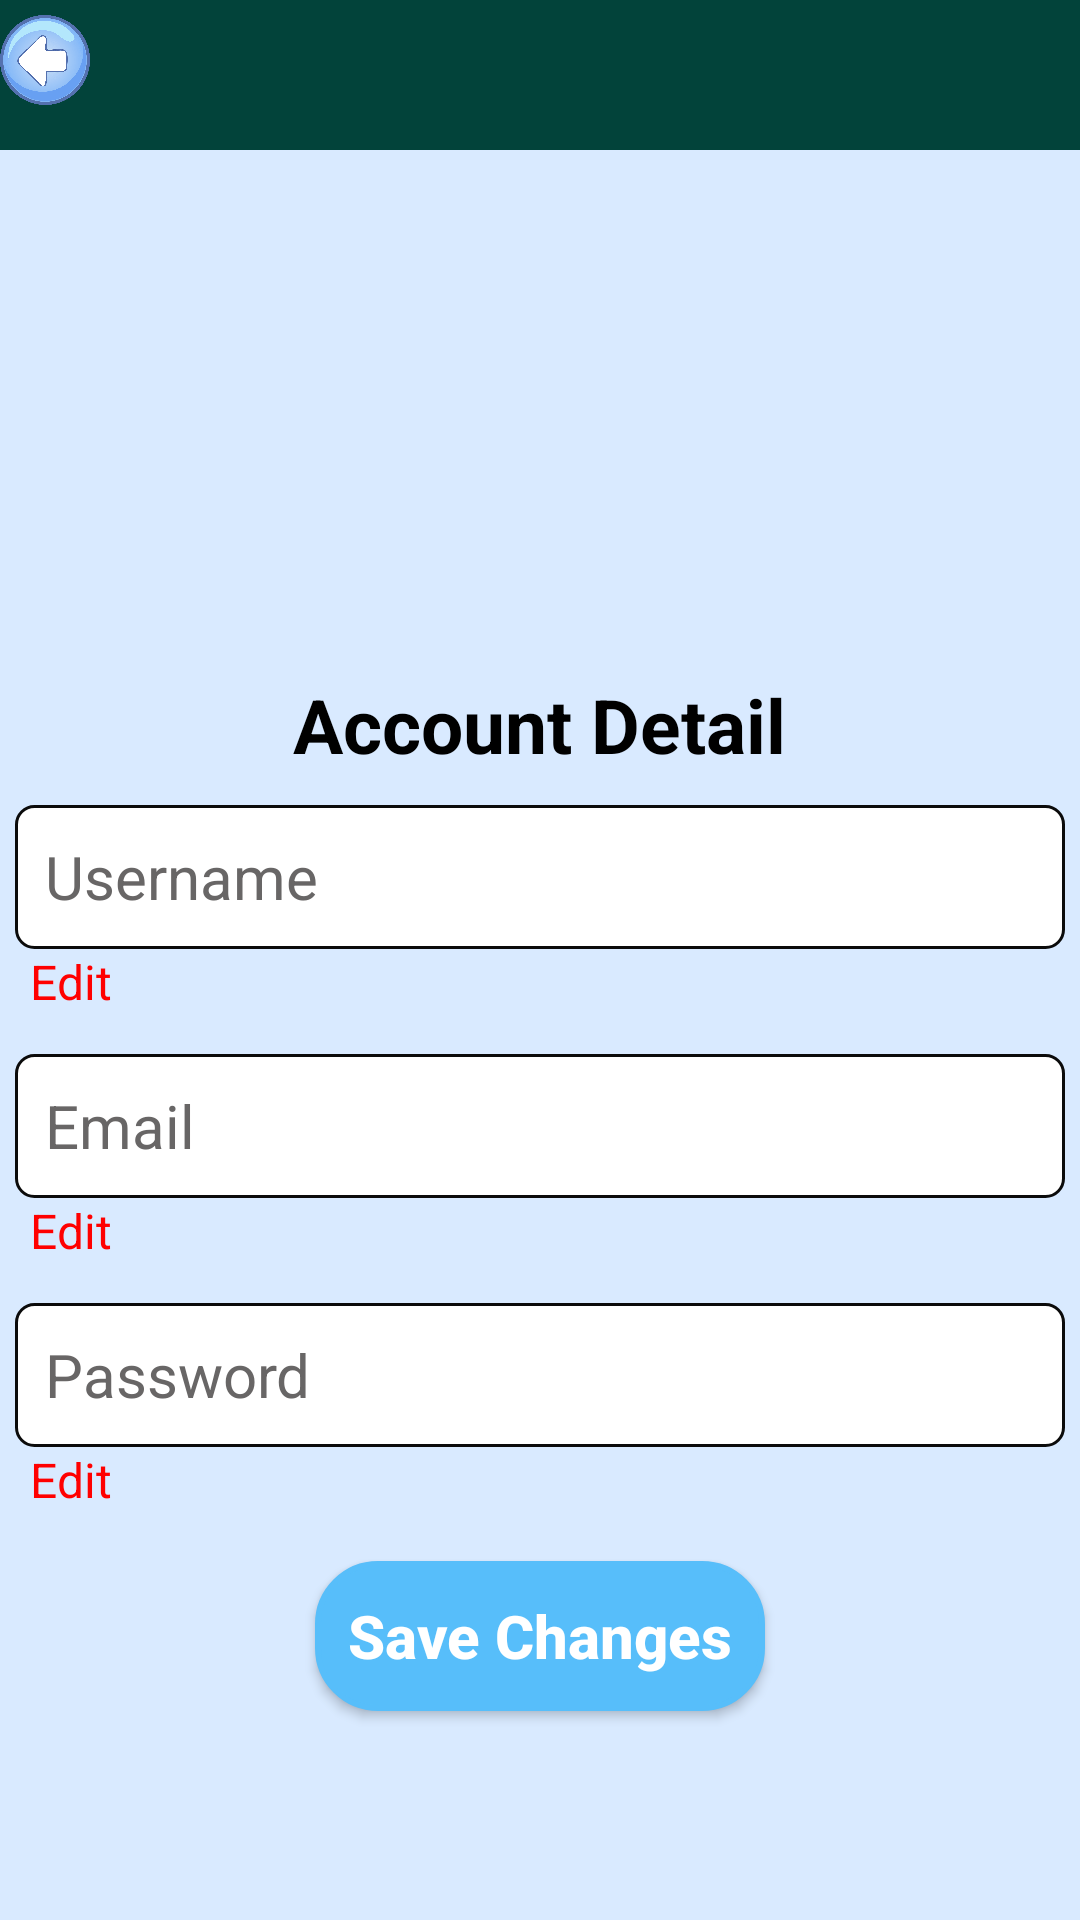

Icon bounding boxes for this 1080px x 1920px phone screenshot, format (x1, y1, x2, y2):
Back: (0, 15, 90, 105)
